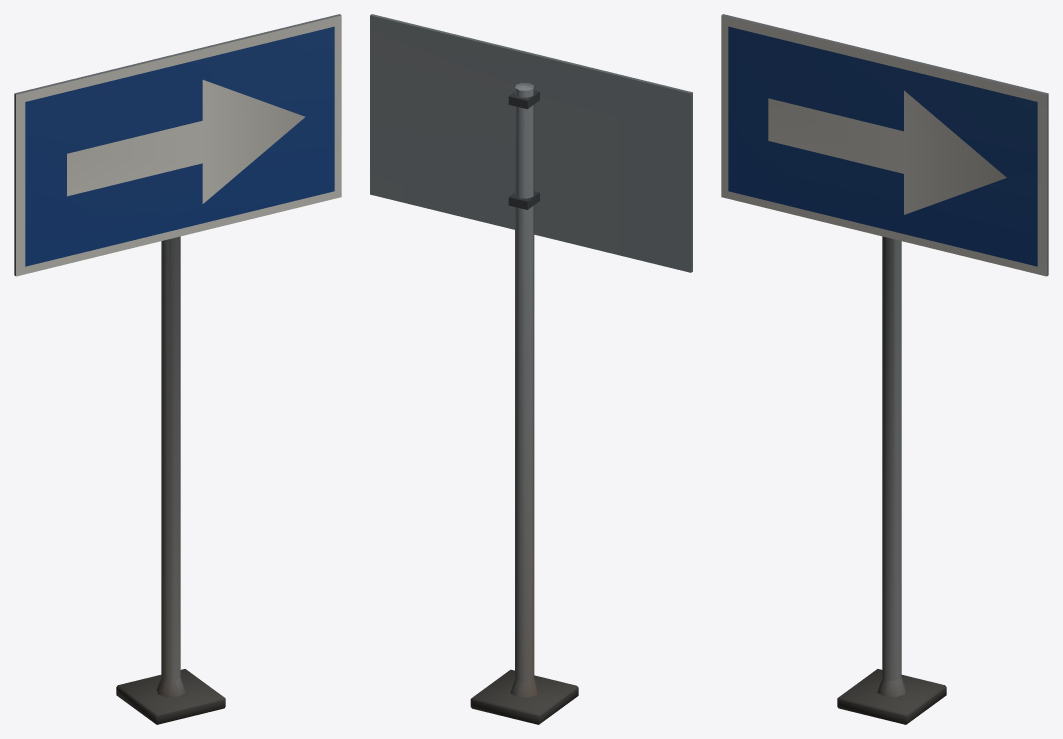
The model's file is sign_arrow.glb.
3 views of the same model, side by side, from view 1: azimuth 30°, elevation 25°; view 2: azimuth 150°, elevation 25°; view 3: azimuth 330°, elevation 25° (orthographic).
Parts seen in each view (by area): view 1: SignArrow; view 2: SignArrow; view 3: SignArrow.
Part boxes in pixels (x1,y1,x2,y2): SignArrow: [14, 14, 341, 724]; SignArrow: [370, 14, 692, 724]; SignArrow: [721, 14, 1048, 724].
Size of the model in its own units: 1.2 by 2.3 by 0.26.
